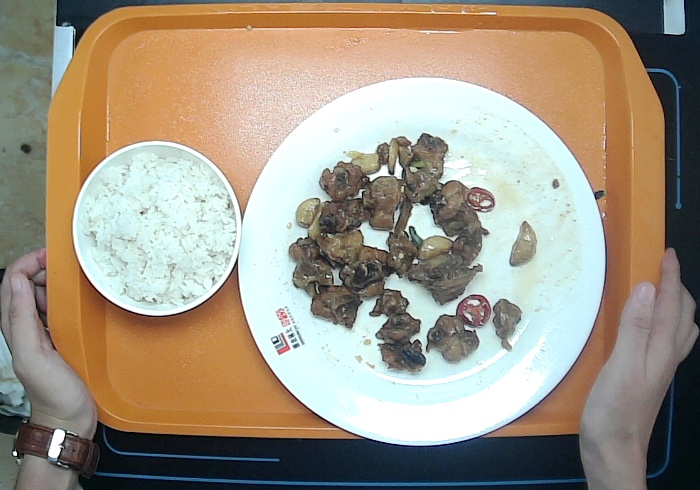ZNLD-Da_Yuan_Pan: (228, 65, 606, 450)
ZNLD-Fan_Wan: (67, 139, 247, 326)
